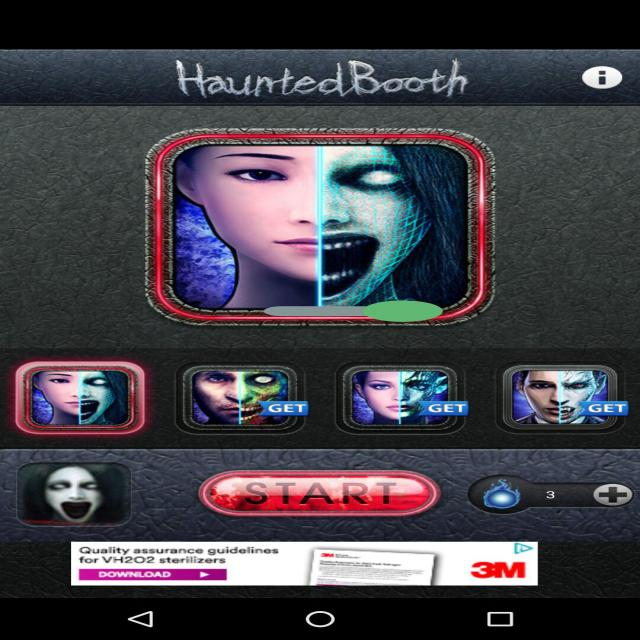social proof: (264, 287, 442, 335)
